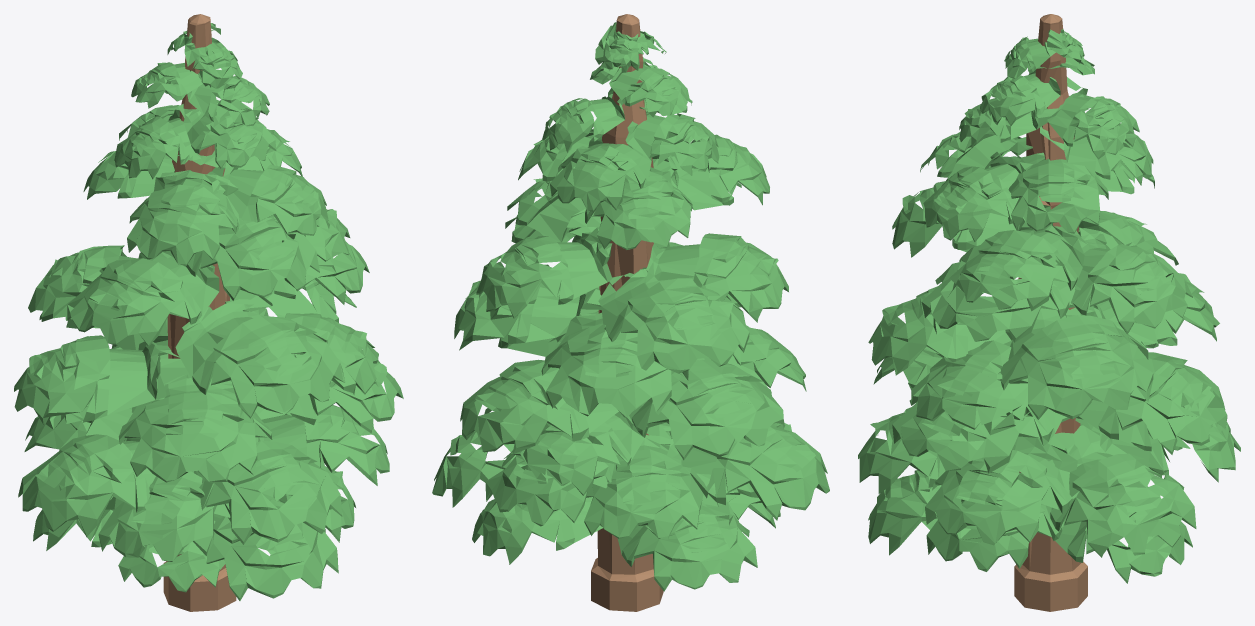
The model's file is nat_cedar.glb.
The picture shows the model from 3 angles, left to right: view 1: azimuth 30°, elevation 25°; view 2: azimuth 150°, elevation 25°; view 3: azimuth 270°, elevation 25°; orthographic projection.
Parts seen in each view (by area): view 1: geometry_0; view 2: geometry_0; view 3: geometry_0.
Part boxes in pixels (x1,y1,x2,y2): geometry_0: (14,14,403,611); geometry_0: (432,14,829,611); geometry_0: (858,14,1240,611).
Bounding box in the file's own units: 0.1099 × 0.1826 × 0.1089.
